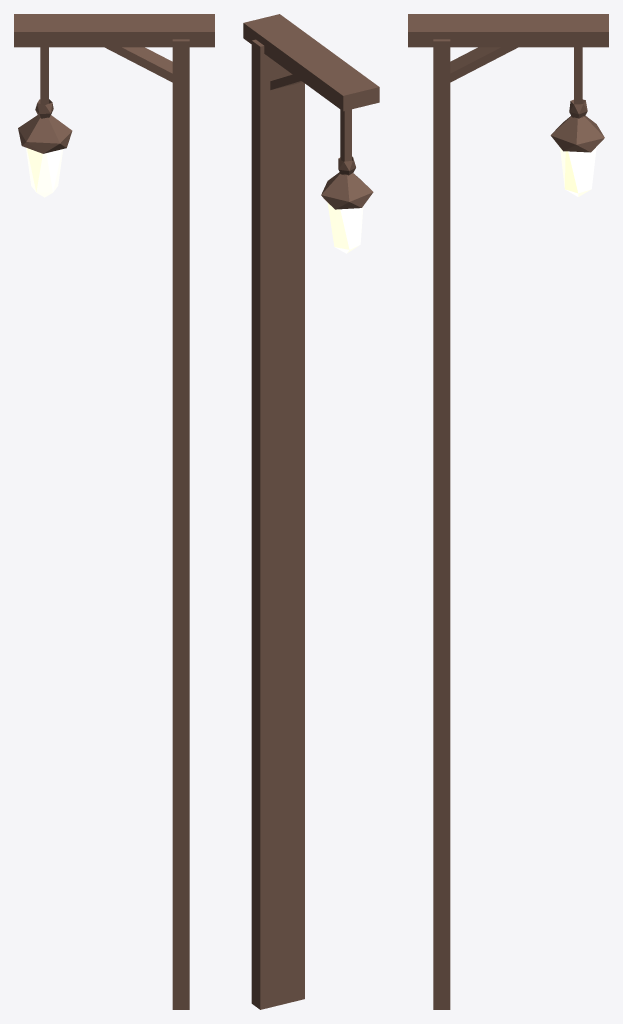
File: Light_Stone_Post.fbx
The picture shows the model from 3 angles, left to right: view 1: azimuth 90°, elevation 25°; view 2: azimuth 210°, elevation 25°; view 3: azimuth 270°, elevation 25°; orthographic projection.
Parts seen in each view (by area): view 1: Икосфера.005; view 2: Икосфера.005; view 3: Икосфера.005.
Boxes of the visible parts, x1,y1,x2,y2 form: Икосфера.005: [14, 14, 214, 1009]; Икосфера.005: [243, 14, 379, 1009]; Икосфера.005: [408, 14, 608, 1009].
Bounding box in the file's own units: 9.59 × 191 × 35.65.
